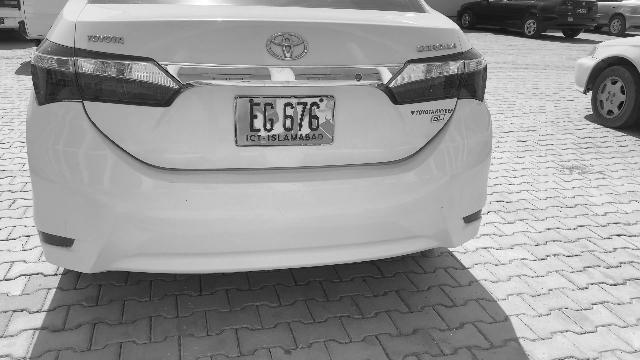Number: (244, 101, 330, 135)
